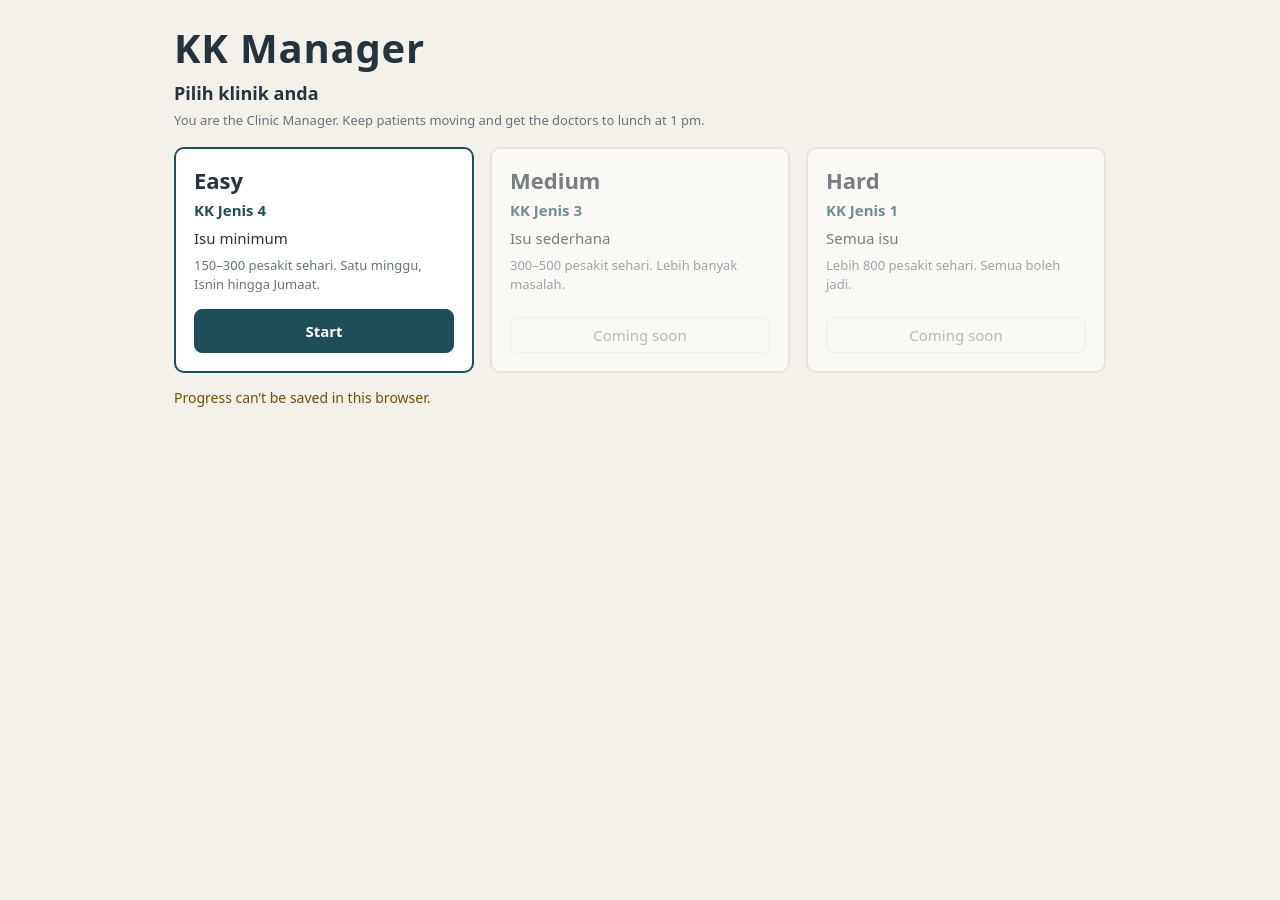
Test: with storage blocked the note shows and play goes on
Expected: the text "Progress can’t be saved in this browser." is shown, [174,388,430,407]
What coordinates should you click on to do the following:
click the button "Start"
I would click on:
 (324, 331)
Its box is [194,309,454,353].
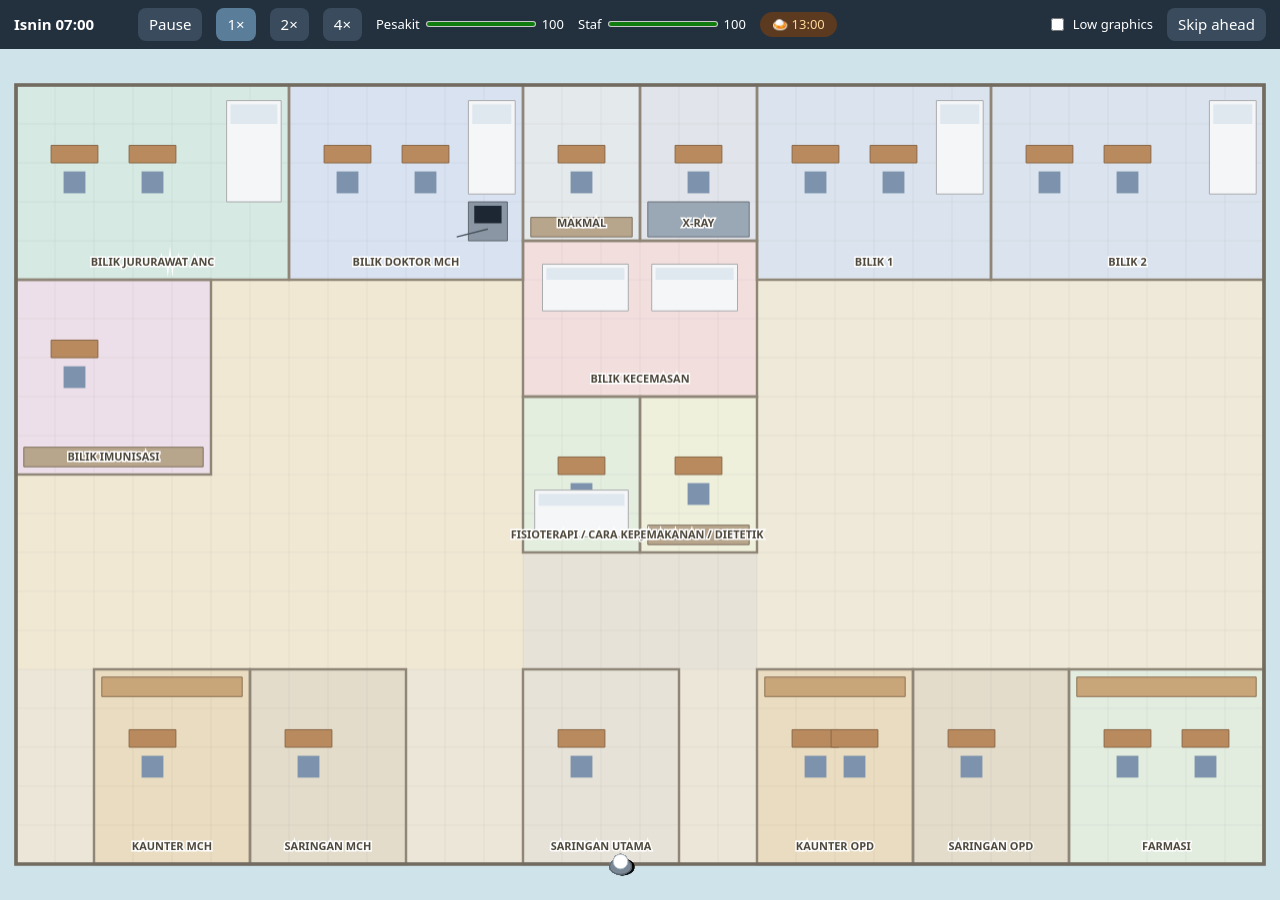
What coordinates should you click on to do the following:
click the button "Skip ahead"
I would click on:
 (1216, 24)
Its box is [1167,8,1266,40].
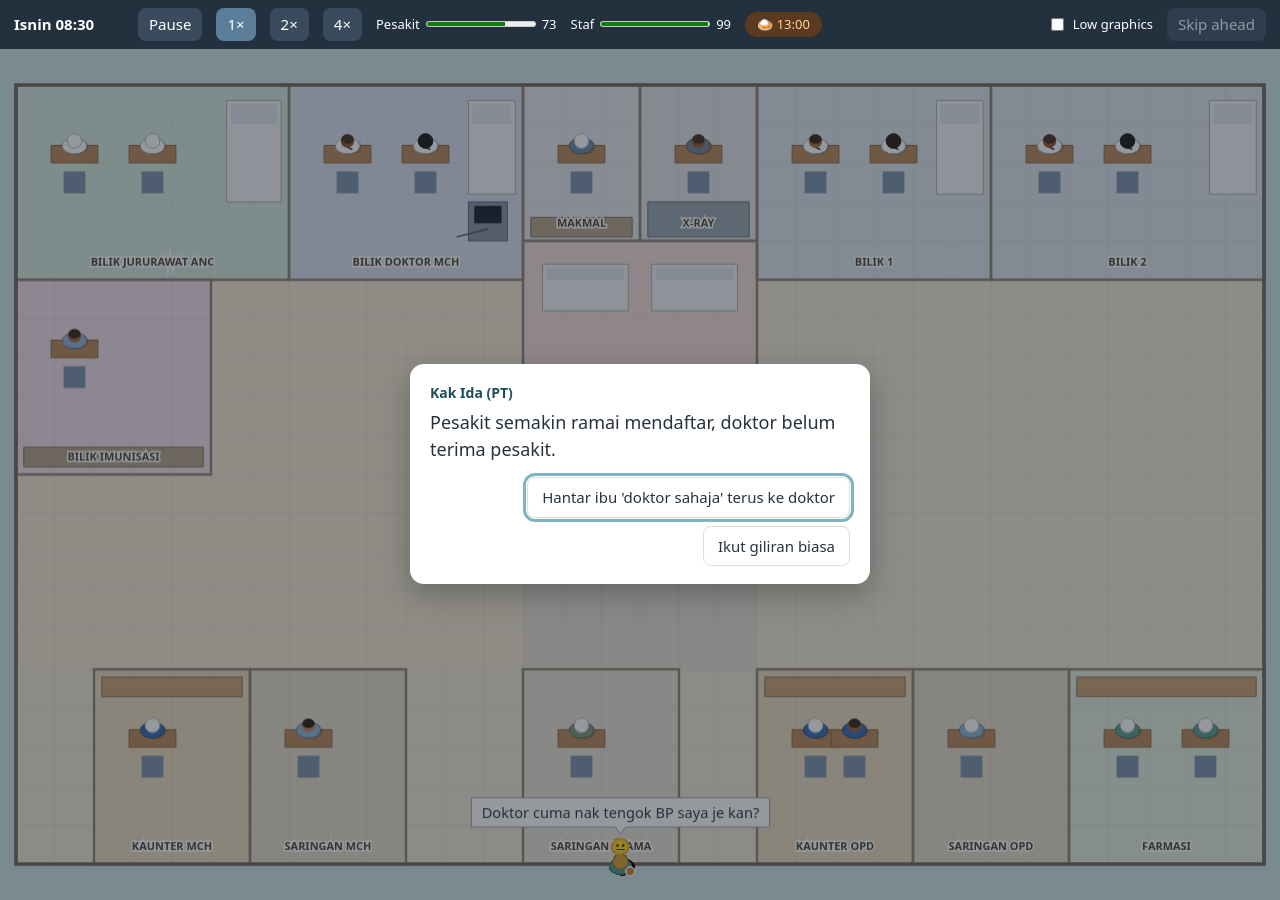
What coordinates should you click on to do the following:
click the button "Hantar ibu 'doktor sahaja' terus ke doktor"
I would click on:
 (689, 498)
Its box is [527,477,850,518].
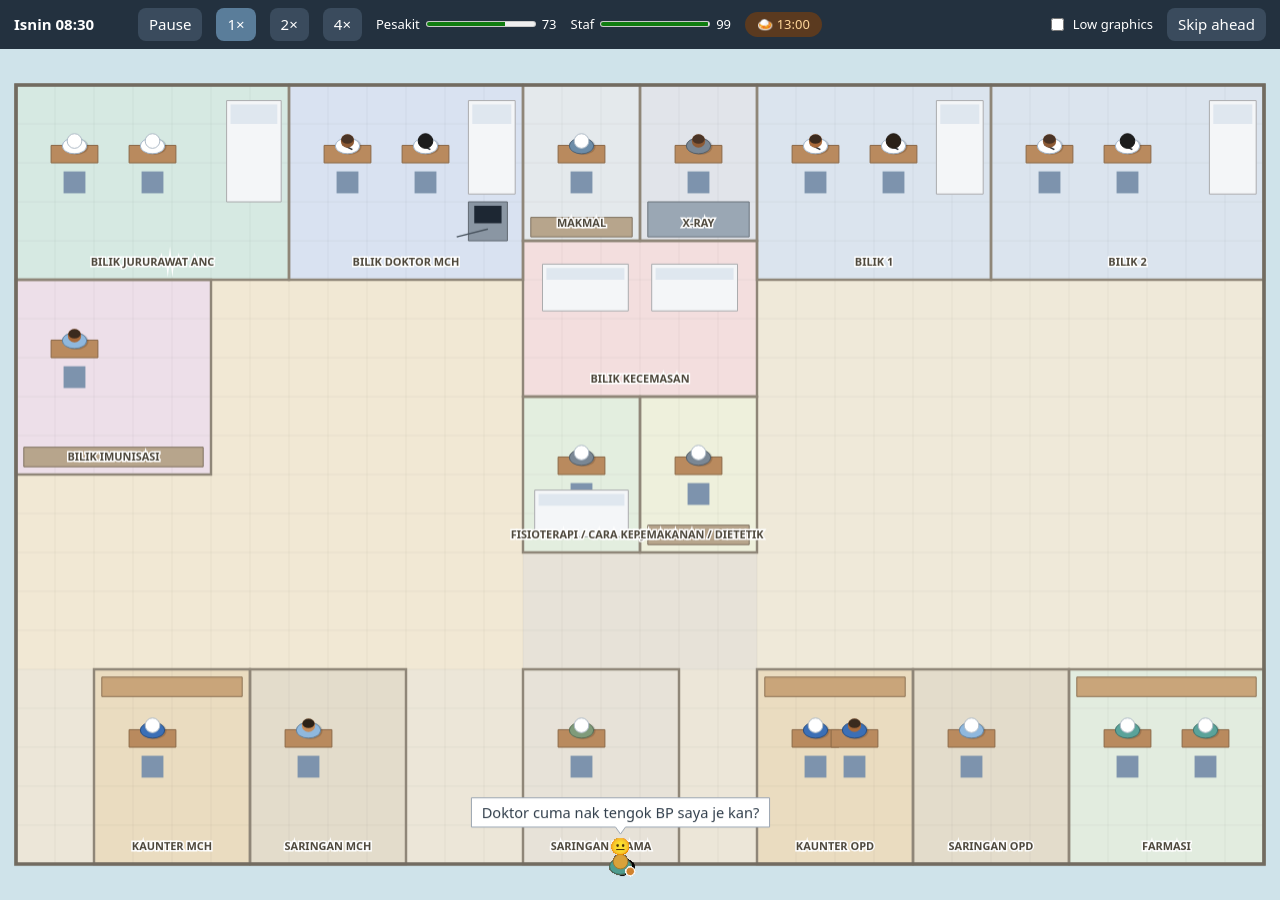
What coordinates should you click on to do the following:
click the button "Skip ahead"
I would click on:
 (1216, 24)
Its box is [1167,8,1266,40].
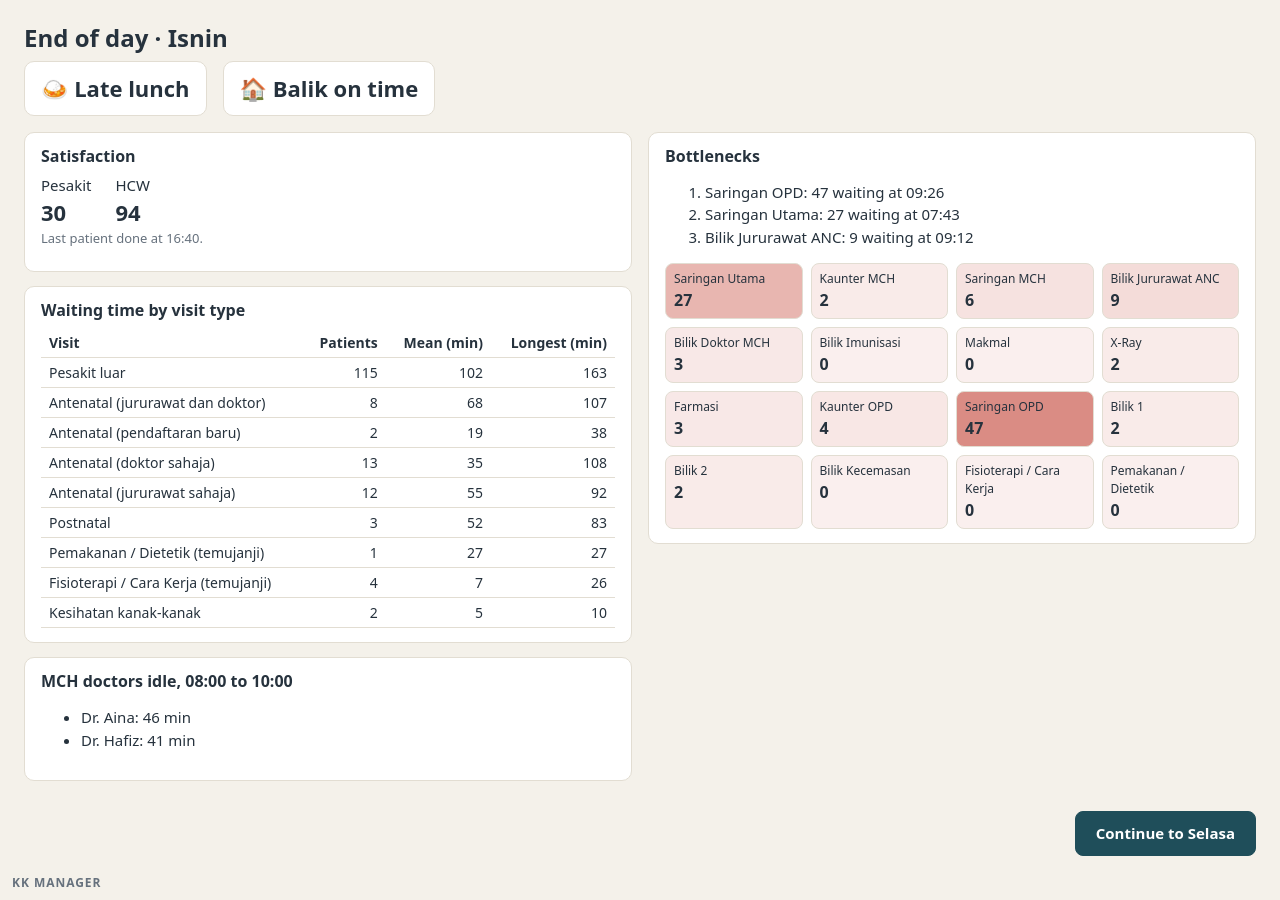
What coordinates should you click on to do the following:
click the button "Continue to Selasa"
I would click on:
 (1165, 834)
Its box is [1075,811,1256,856].
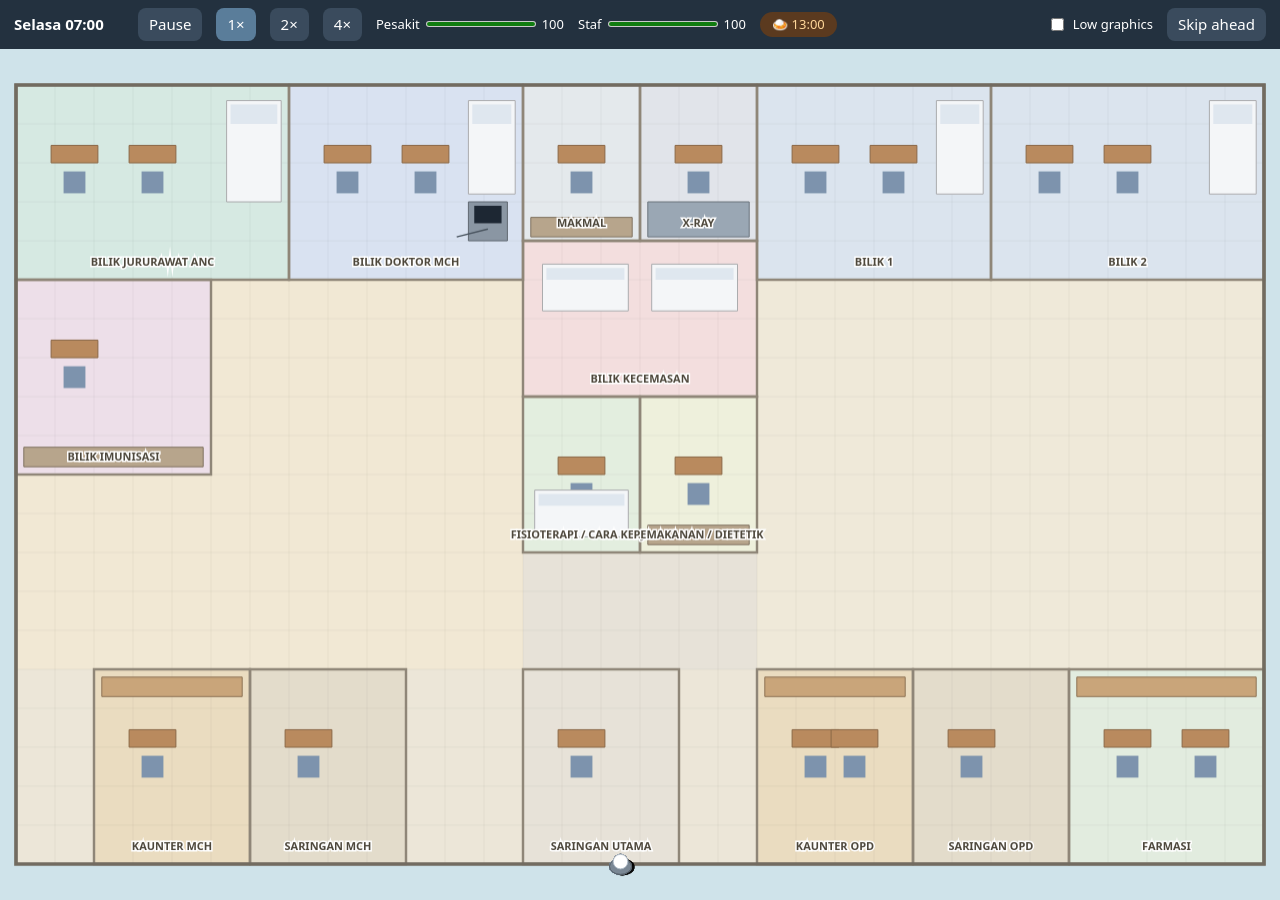
Now the text "Selasa 07:00" is shown, box [14,14,104,34]
